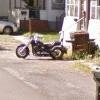Motorcycle: (16, 34, 72, 66)
